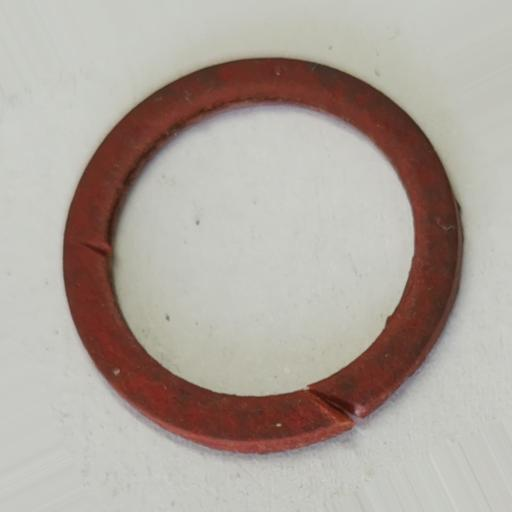defect: (306, 385, 366, 427), (84, 240, 110, 258)
